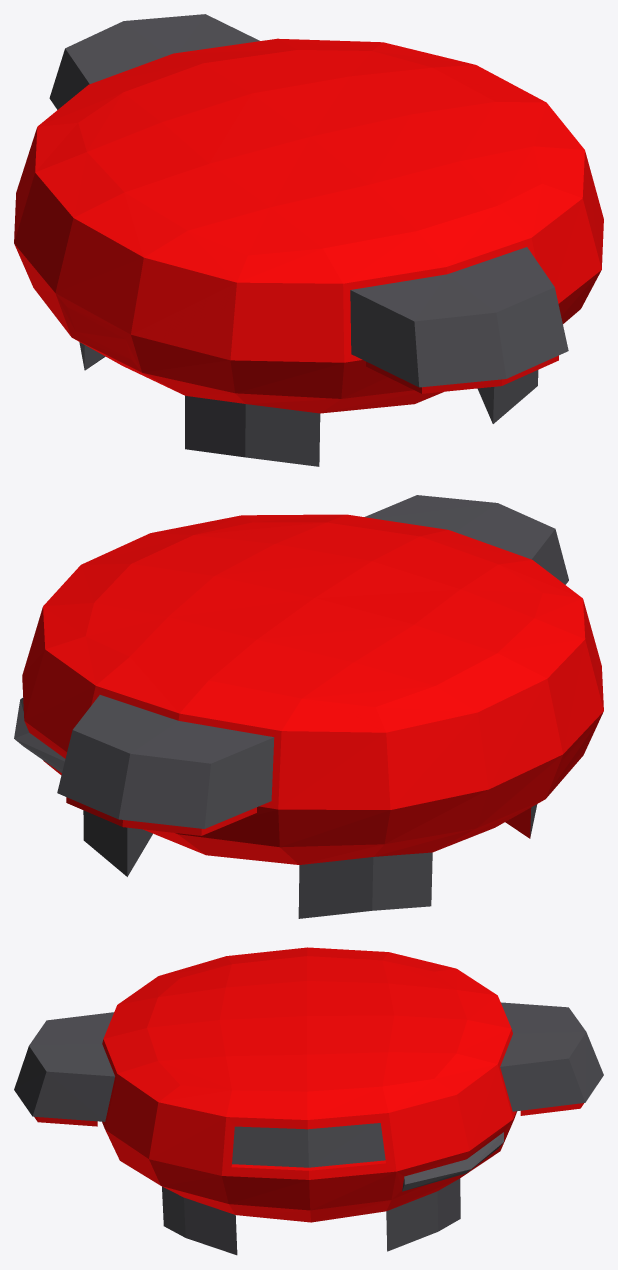
The model's file is Hostile_1.fbx.
3 views of the same model, one above another, from view 1: azimuth 30°, elevation 25°; view 2: azimuth 150°, elevation 25°; view 3: azimuth 270°, elevation 25° (orthographic). The views are drawn at different scales.
Parts seen in each view (by area): view 1: pCube6; view 2: pCube6; view 3: pCube6.
Boxes of the visible parts, x1,y1,x2,y2 form: pCube6: (14,14,603,466); pCube6: (14,495,603,918); pCube6: (14,947,603,1255).
Size of the model in its own units: 2.71 by 1.22 by 3.65.
